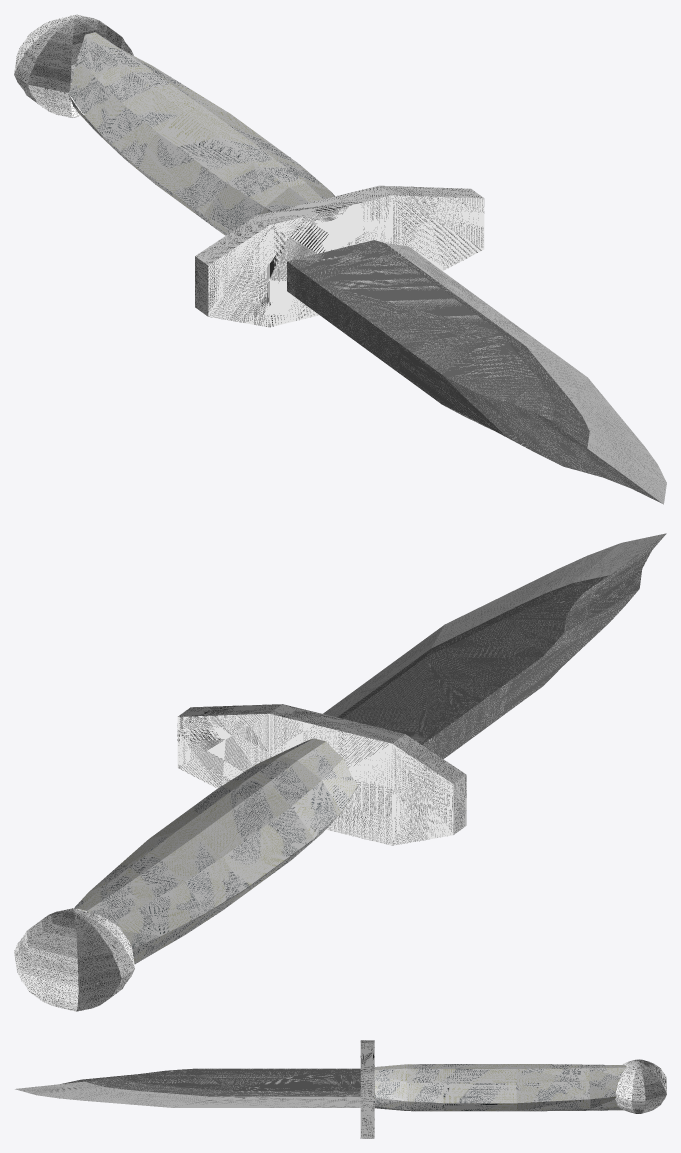
File: model_scale.obj
3 views of the same model, one above another, from view 1: azimuth 30°, elevation 25°; view 2: azimuth 150°, elevation 25°; view 3: azimuth 270°, elevation 25° (orthographic). The views are drawn at different scales.
Visible parts, largest first — view 1: mesh1_mesh1-geometry, mesh2_mesh2-geometry, mesh6_mesh6-geometry, mesh4_mesh4-geometry, mesh5_mesh5-geometry, mesh3_mesh3-geometry; view 2: mesh1_mesh1-geometry, mesh2_mesh2-geometry, mesh6_mesh6-geometry, mesh4_mesh4-geometry, mesh5_mesh5-geometry, mesh3_mesh3-geometry; view 3: mesh1_mesh1-geometry, mesh2_mesh2-geometry, mesh3_mesh3-geometry, mesh4_mesh4-geometry, mesh6_mesh6-geometry, mesh5_mesh5-geometry.
Boxes of the visible parts, x1=… form: mesh1_mesh1-geometry: x1=287, y1=240, x2=666, y2=504; mesh2_mesh2-geometry: x1=69, y1=32, x2=334, y2=231; mesh6_mesh6-geometry: x1=195, y1=185, x2=484, y2=327; mesh4_mesh4-geometry: x1=14, y1=14, x2=133, y2=92; mesh5_mesh5-geometry: x1=14, y1=74, x2=84, y2=117; mesh3_mesh3-geometry: x1=65, y1=92, x2=232, y2=235; mesh1_mesh1-geometry: x1=323, y1=533, x2=666, y2=758; mesh2_mesh2-geometry: x1=74, y1=738, x2=357, y2=948; mesh6_mesh6-geometry: x1=177, y1=704, x2=466, y2=845; mesh4_mesh4-geometry: x1=14, y1=908, x2=134, y2=986; mesh5_mesh5-geometry: x1=17, y1=950, x2=134, y2=1011; mesh3_mesh3-geometry: x1=97, y1=786, x2=357, y2=983; mesh1_mesh1-geometry: x1=15, y1=1068, x2=360, y2=1107; mesh2_mesh2-geometry: x1=374, y1=1064, x2=626, y2=1103; mesh3_mesh3-geometry: x1=374, y1=1096, x2=623, y2=1111; mesh4_mesh4-geometry: x1=616, y1=1059, x2=666, y2=1100; mesh6_mesh6-geometry: x1=360, y1=1040, x2=374, y2=1138; mesh5_mesh5-geometry: x1=615, y1=1095, x2=666, y2=1113.
Size of the model in its own units: 0.0593 by 0.021 by 0.23.
